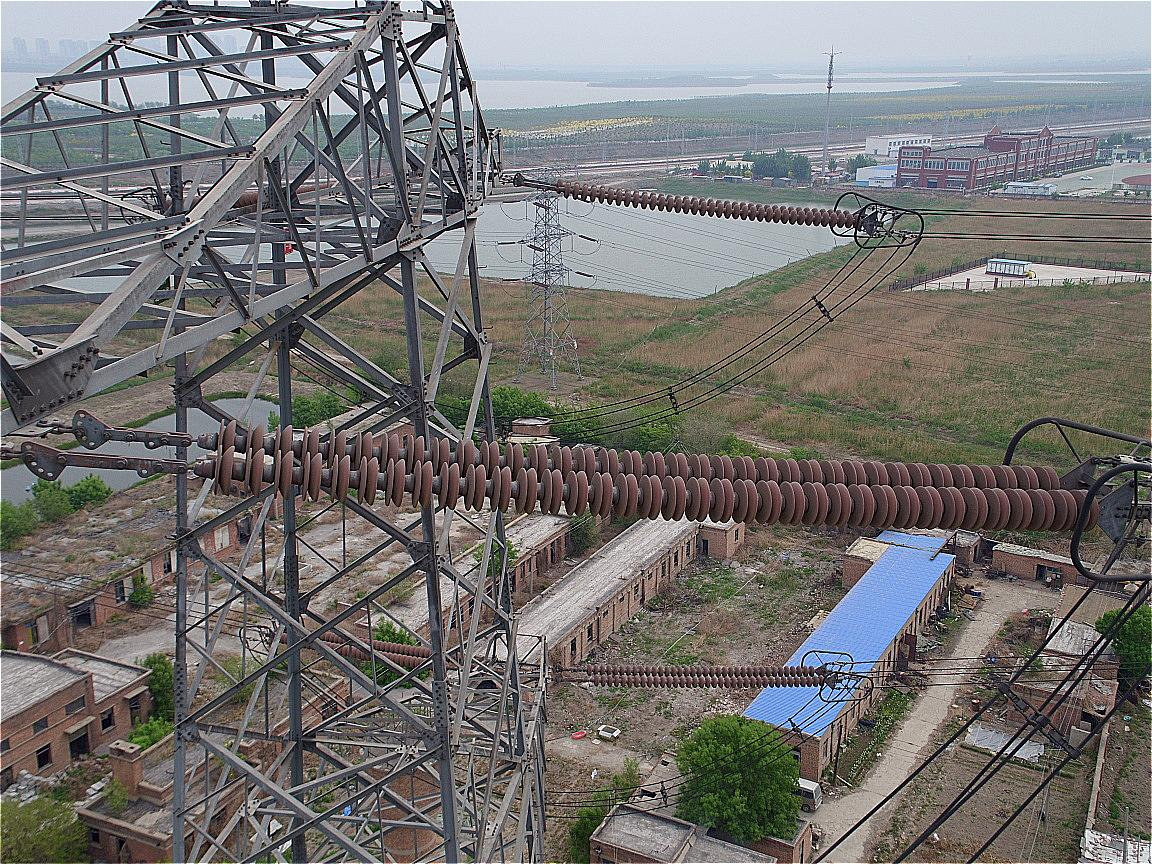insultor1: (557, 178, 864, 231), (585, 664, 827, 688)
insultor2: (215, 419, 1100, 533)
